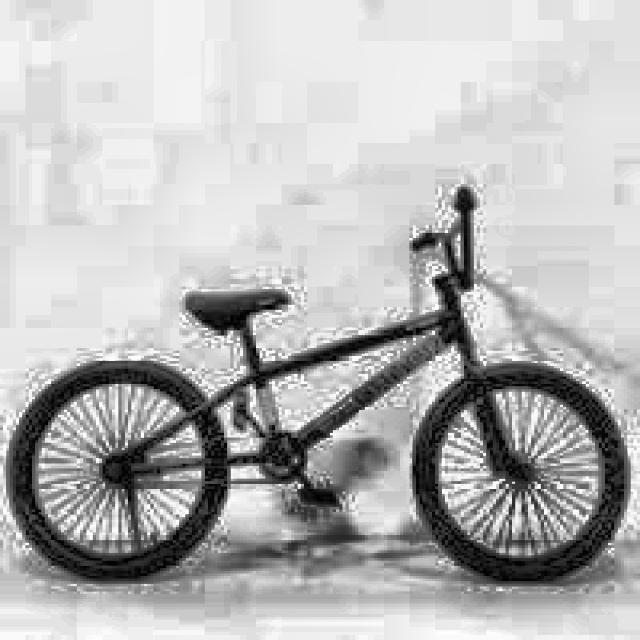bike: (2, 180, 627, 577)
